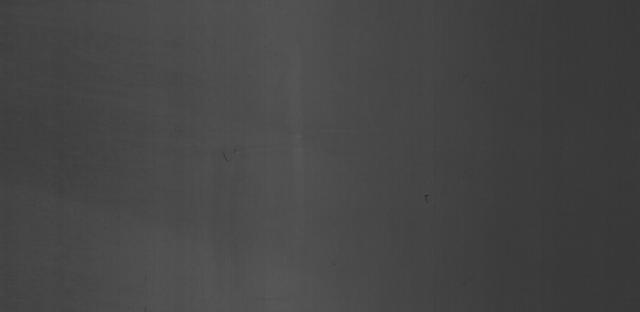inclusion: (212, 144, 243, 170), (418, 190, 436, 208)
